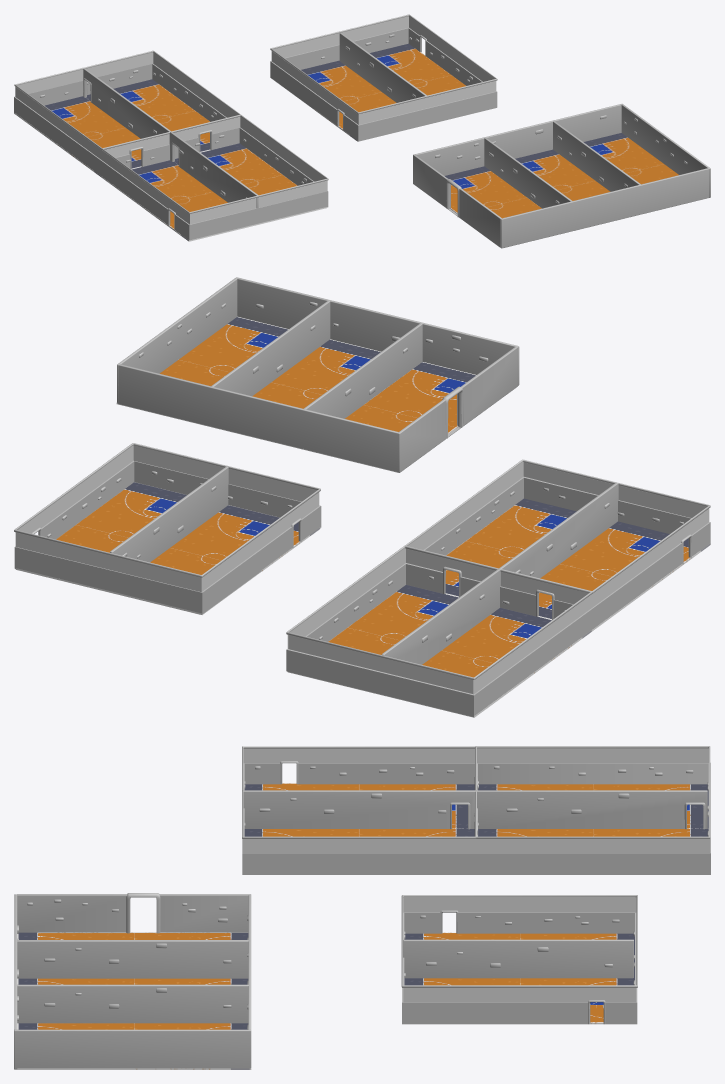
The model's file is saha_alternatifs_02 (2).fbx.
3 views of the same model, one above another, from view 1: azimuth 30°, elevation 25°; view 2: azimuth 150°, elevation 25°; view 3: azimuth 270°, elevation 25° (orthographic). The views are drawn at different scales.
Visible parts, largest first — view 1: Cube.023, Cube.019, Cube.004, Plane.017, Cube.002, Plane.043, platform_01.024, platform_01.017, platform_01.013, platform_01.015, platform_01.011, platform_01.004 (+15 smaller); view 2: Cube.023, Cube.019, Cube.002, Plane.017, Cube.004, Plane.043, platform_01.025, platform_01.018, platform_01.005, platform_01.014, platform_01.012, platform_01.002 (+15 smaller); view 3: Cube.023, Cube.019, Cube.002, Cube.004, Plane.017, Plane.043, Plane.005, Plane.006, Plane.004, platform_01.013, platform_01.001, platform_01.017 (+15 smaller).
Part boxes in pixels (x1,y1,x2,y2): Cube.023: (413,103,710,248); Cube.019: (270,27,497,141); Cube.004: (102,127,328,240); Plane.017: (15,52,327,224); Cube.002: (14,64,226,176); Plane.043: (271,16,496,124); platform_01.024: (445,166,526,213); platform_01.017: (101,160,212,209); platform_01.013: (14,96,124,145); platform_01.015: (174,143,282,184); platform_01.011: (86,79,194,119); platform_01.004: (270,60,381,109); Cube.023: (117,277,519,472); Cube.019: (14,460,321,614); Cube.002: (286,563,592,716); Plane.017: (287,462,709,694); Cube.004: (406,477,710,628); Plane.043: (15,445,319,591); platform_01.025: (364,362,476,428); platform_01.018: (560,521,710,587); platform_01.005: (170,505,320,571); platform_01.014: (442,607,592,674); platform_01.012: (348,585,458,640); platform_01.002: (76,482,186,537); Cube.023: (14,893,251,1069); Cube.019: (402,910,637,1024); Cube.002: (474,762,710,874); Cube.004: (242,761,477,874); Plane.017: (242,748,710,852); Plane.043: (403,897,636,1002); Plane.005: (475,746,710,838); Plane.006: (242,746,476,838); Plane.004: (401,895,637,987); platform_01.013: (594,784,708,828); platform_01.001: (520,978,634,1024); platform_01.017: (359,784,474,828).
Size of the model in its own units: 130 by 8.59 by 134.
